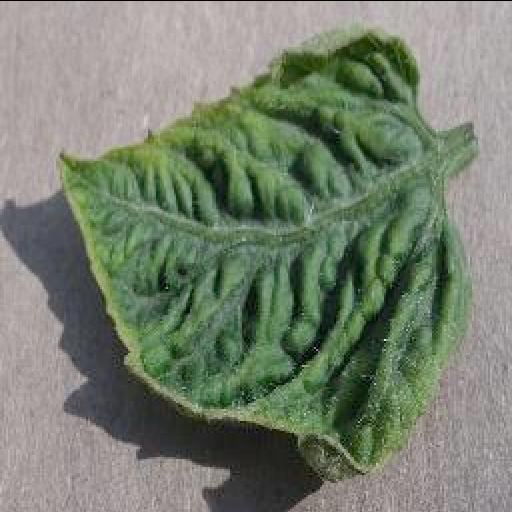disease_tomato: (54, 19, 476, 477)
